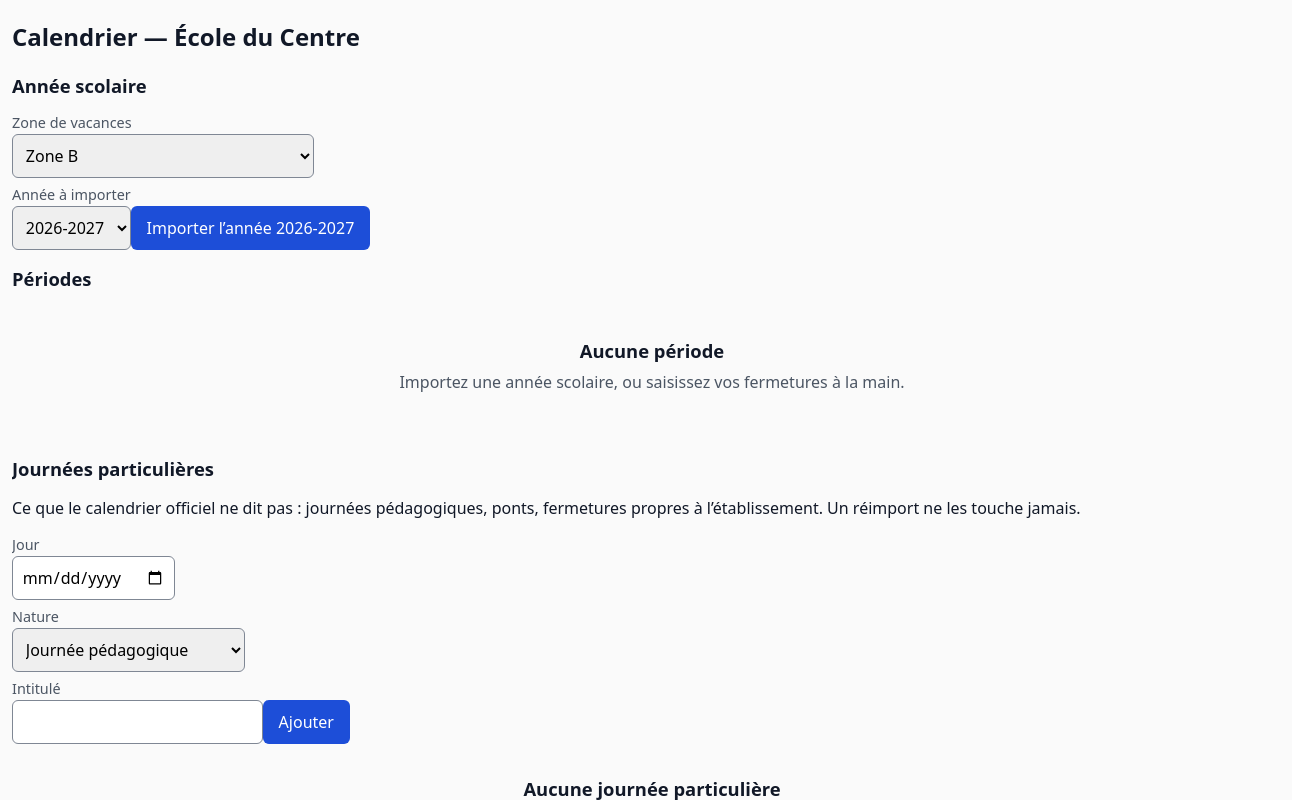
Test case: CalendrierPage › dit « rafraîchies » et rassure sur les saisies au RÉIMPORT
Click the button "Importer l’année 2026-2027".
click(250, 228)  # box top-left (131, 206), bottom-right (370, 250)
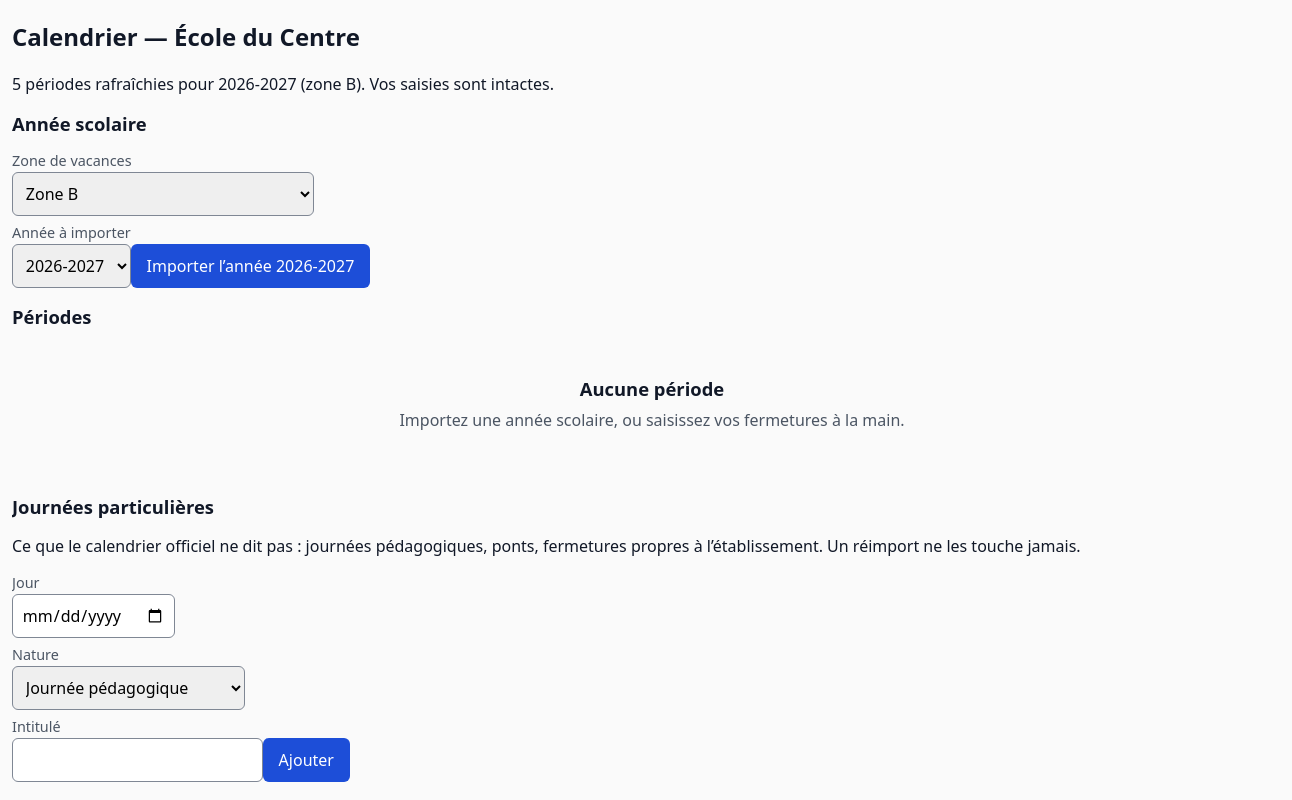
Check: the message reads "5 périodes rafraîchies pour 2026-2027 (zone B). Vos saisies sont intactes.", box top-left (12, 73), bottom-right (554, 95)
